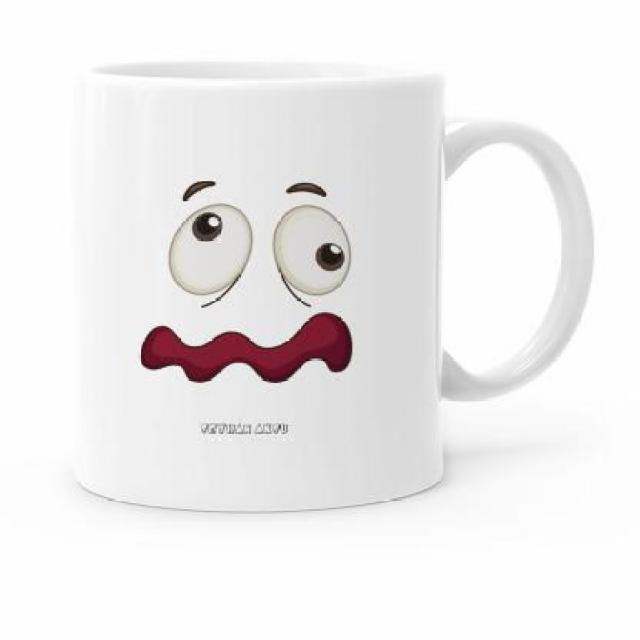taza: (73, 54, 596, 516)
